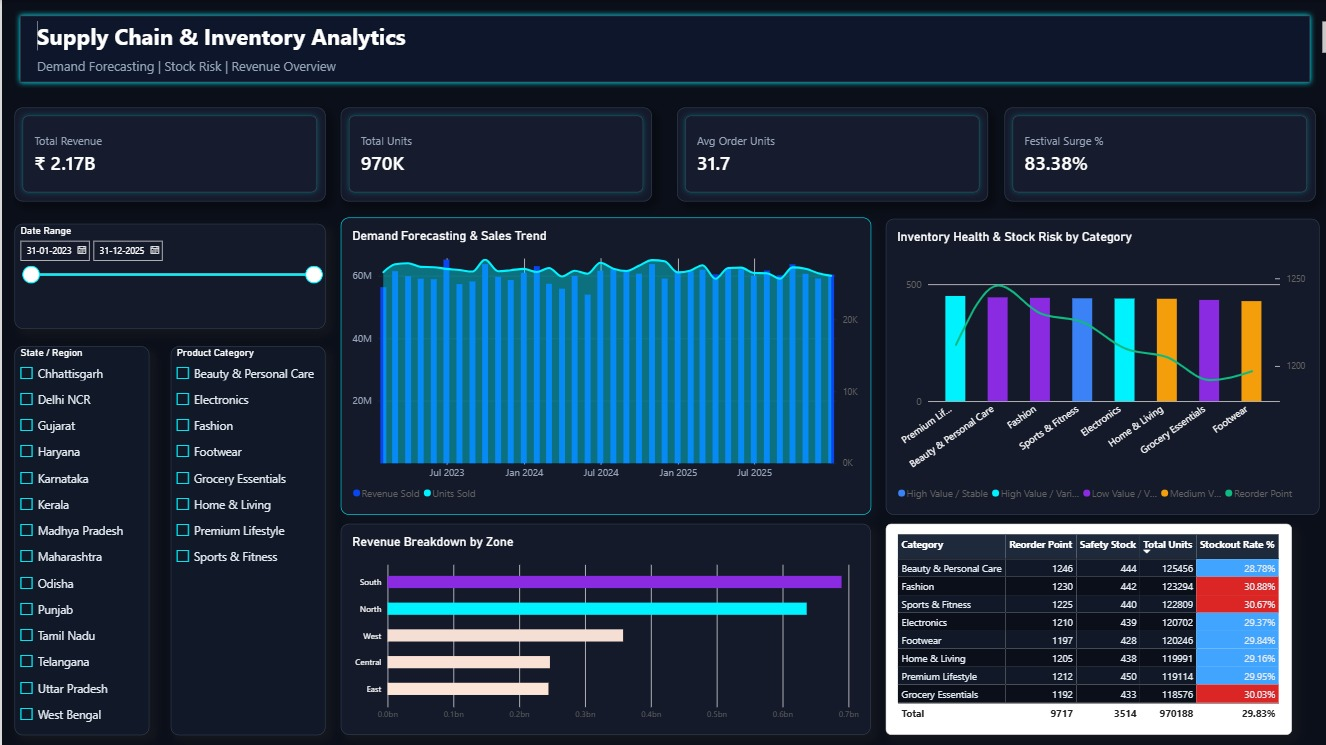

What the dashboard file says about the page in this screenshot:
{"tool":"powerbi","page":{"name":"Page 1","canvas":[1920,1080],"ordinal":0},"visuals":[{"type":"shape","box":[18.2,14.5,1883.6,112.7],"z":0},{"type":"textbox","box":[50.9,30.9,1869.1,52.7],"z":1000},{"type":"textbox","box":[50.9,83.6,1850.9,43.6],"z":2000},{"type":"cardVisual","fields":{"Data":["ABC_XYZ_Matrix.Total Revenue"]},"box":[18.1,155.6,450.6,135.7],"z":3000},{"type":"slicer","fields":{"Values":["Transactions.order_date"]},"box":[18.1,323.9,450.6,152],"z":4000},{"type":"slicer","fields":{"Values":["ABC_XYZ_Matrix.category"]},"box":[244.3,501.3,224.4,562.8],"z":5000},{"type":"slicer","fields":{"Values":["Transactions.state"]},"box":[18.1,501.3,195.4,562.8],"z":6000},{"type":"lineStackedColumnComboChart","title":"Demand Forecasting & Sales Trend","fields":{"Category":["Transactions.order_date"],"Y":["Sum(Transactions.revenue)"],"Y2":["Sum(Transactions.units_sold)"]},"box":[490.4,314.9,768,430.7],"z":7000},{"type":"lineStackedColumnComboChart","title":"Inventory Health & Stock Risk by Category","fields":{"Category":["Safety_Stock_ROP.category"],"Series":["ABC_XYZ_Matrix.ABC_XYZ_Matrix"],"Y":["Sum(Safety_Stock_ROP.safety_stock)"],"Y2":["Sum(Safety_Stock_ROP.reorder_point)"]},"box":[1279.8,316.3,628.3,428.9],"z":8000},{"type":"clusteredBarChart","title":"Revenue Breakdown by Zone","fields":{"Category":["Transactions.zone"],"Y":["Sum(Transactions.revenue)"]},"box":[490.4,758.2,767.3,305.8],"z":9000},{"type":"tableEx","fields":{"Values":["ABC_XYZ_Matrix.category","Sum(Safety_Stock_ROP.reorder_point)","Sum(Safety_Stock_ROP.safety_stock)","Sum(Safety_Stock_ROP.total_units)","ABC_XYZ_Matrix.Stockout Rate %"]},"box":[1279.4,758.2,588.1,305.8],"z":10000},{"type":"cardVisual","fields":{"Data":["ABC_XYZ_Matrix.Total Units"]},"box":[490.4,155.6,450.6,135.7],"z":11000},{"type":"cardVisual","fields":{"Data":["ABC_XYZ_Matrix.Avg Order Units"]},"box":[977.2,155.6,450.6,135.7],"z":12000},{"type":"cardVisual","fields":{"Data":["ABC_XYZ_Matrix.Festival Surge %"]},"box":[1451.3,155.6,450.6,135.7],"z":13000}]}

Visuals, with their boxes in screenshot pixels (x1, y1, x2, y2), scaled from the page's 1920x1080 canvas onto the 1326x745 screenshot:
shape: bbox(13, 10, 1313, 88)
textbox: bbox(35, 21, 1325, 58)
textbox: bbox(35, 58, 1313, 88)
cardVisual - ABC_XYZ_Matrix.Total Revenue: bbox(13, 107, 324, 201)
slicer - Transactions.order_date: bbox(13, 223, 324, 328)
slicer - ABC_XYZ_Matrix.category: bbox(169, 346, 324, 734)
slicer - Transactions.state: bbox(13, 346, 147, 734)
"Demand Forecasting & Sales Trend" lineStackedColumnComboChart: bbox(339, 217, 869, 514)
"Inventory Health & Stock Risk by Category" lineStackedColumnComboChart: bbox(884, 218, 1318, 514)
"Revenue Breakdown by Zone" clusteredBarChart: bbox(339, 523, 869, 734)
tableEx - ABC_XYZ_Matrix.category x Sum(Safety_Stock_ROP.reorder_point): bbox(884, 523, 1290, 734)
cardVisual - ABC_XYZ_Matrix.Total Units: bbox(339, 107, 650, 201)
cardVisual - ABC_XYZ_Matrix.Avg Order Units: bbox(675, 107, 986, 201)
cardVisual - ABC_XYZ_Matrix.Festival Surge %: bbox(1002, 107, 1313, 201)
